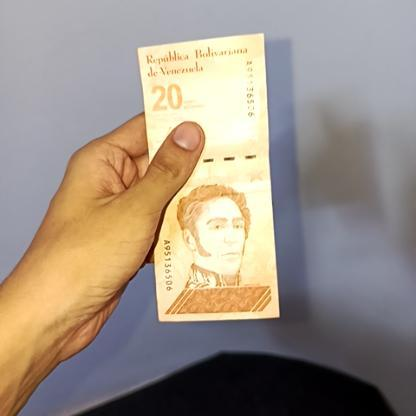twenty-front-vef: (138, 32, 278, 324)
